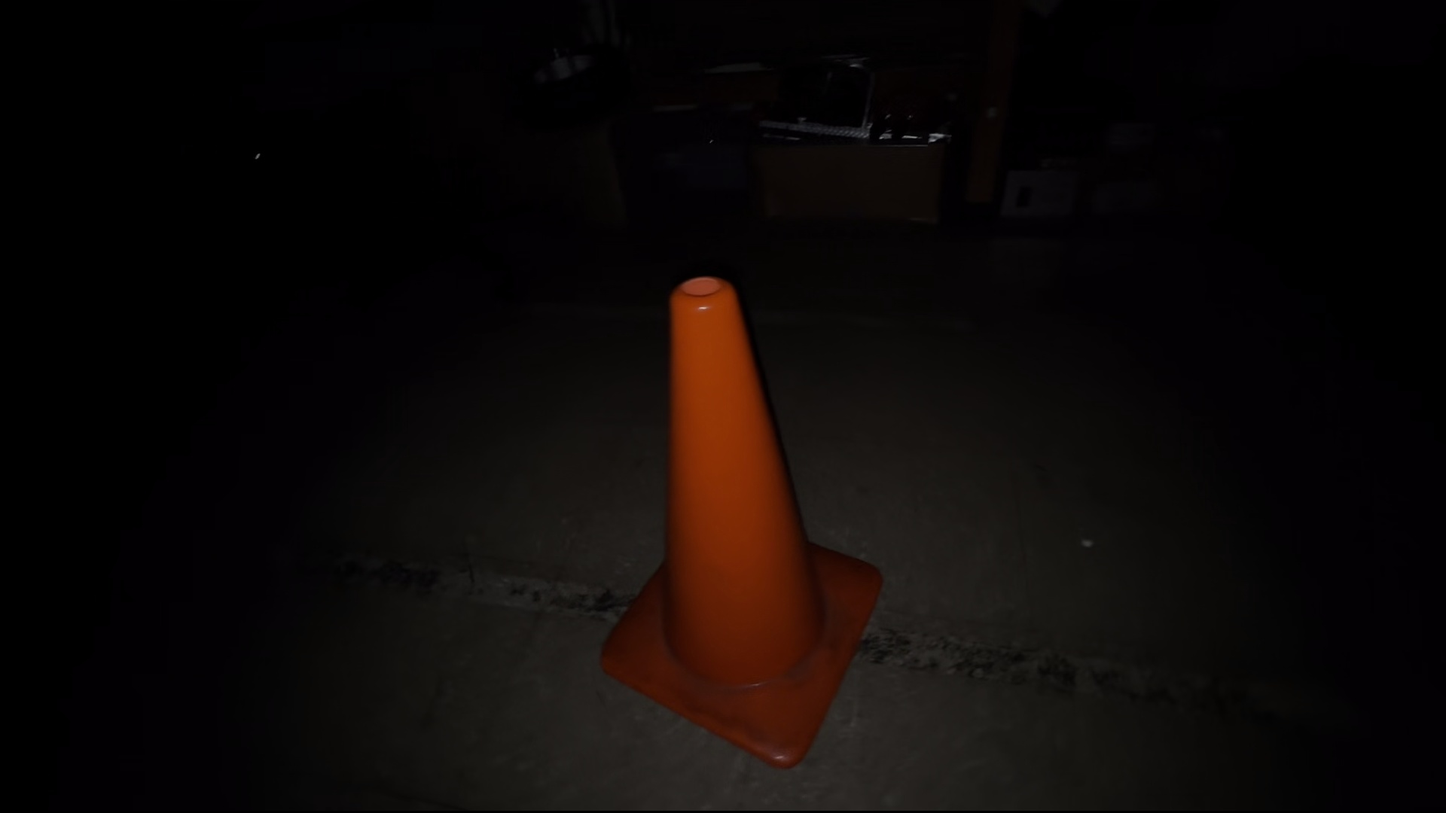traffic_cone: (599, 274, 884, 769)
